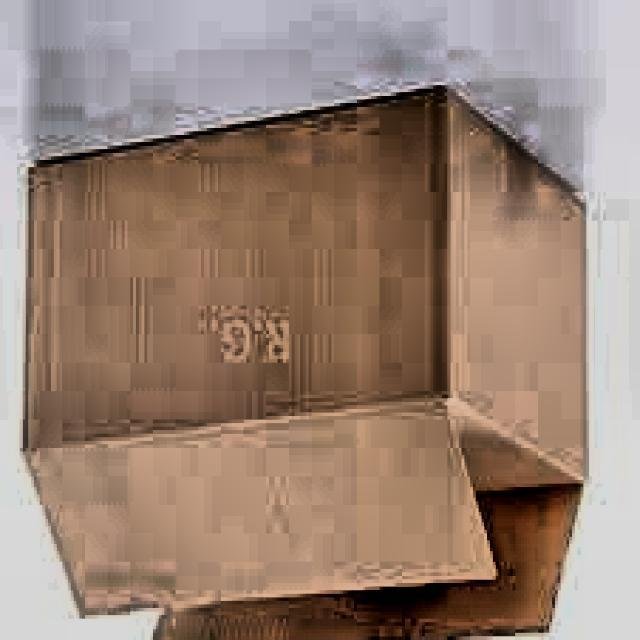cardboard: (22, 85, 590, 640)
